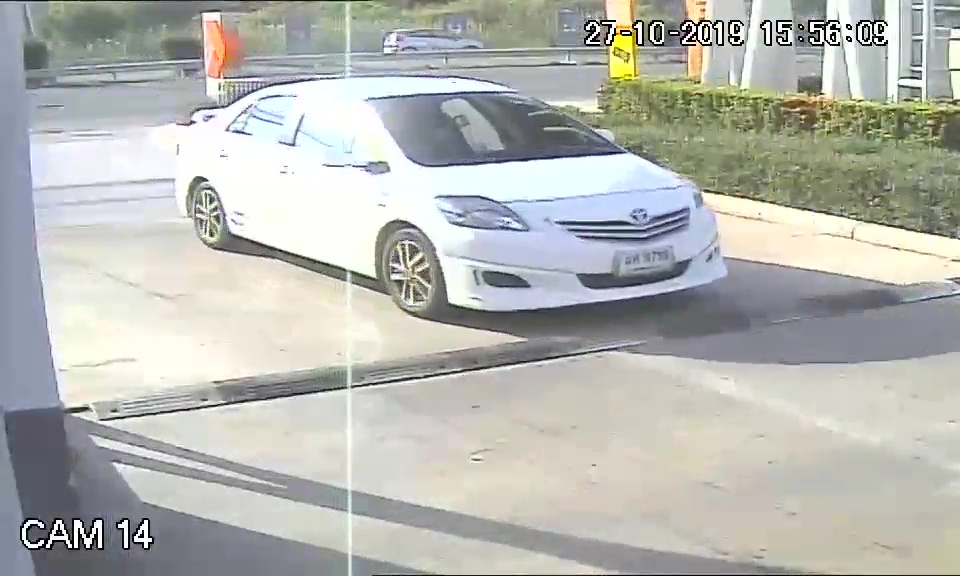sedan: (166, 72, 726, 318)
